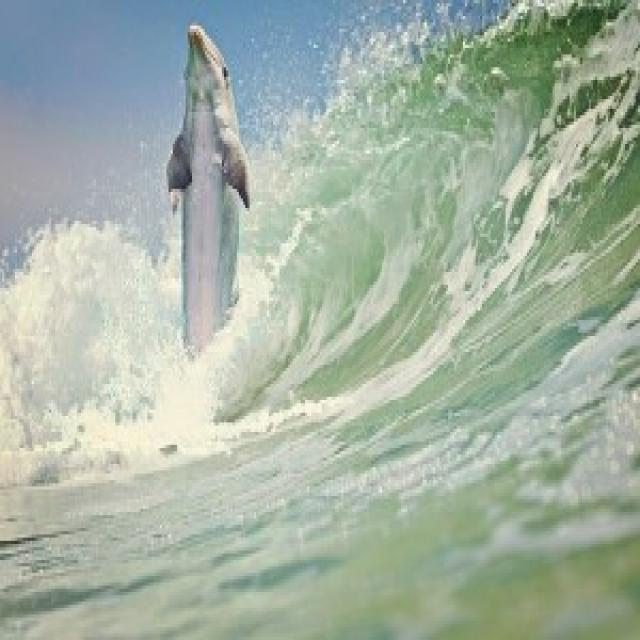Dolphin: (160, 21, 255, 378)
